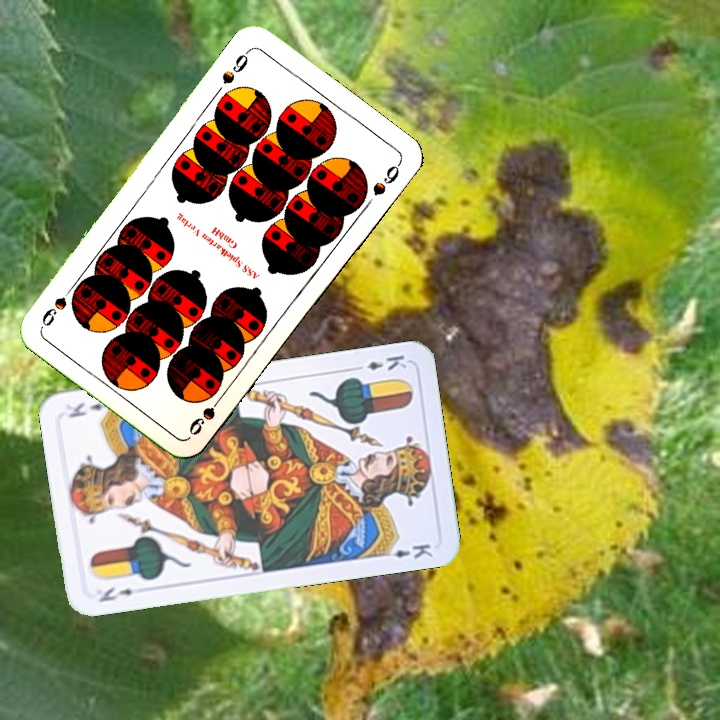EK: (350, 351, 409, 374), (95, 583, 136, 605)
S9: (184, 386, 227, 438), (217, 45, 254, 87)
